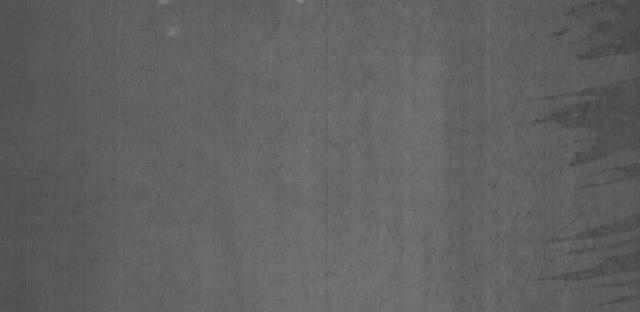water_spot: (524, 17, 634, 290)
